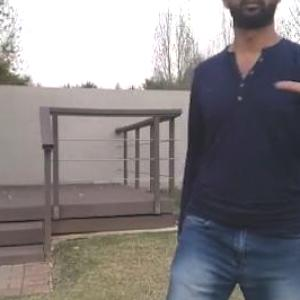land_hand: (270, 6, 299, 111)
